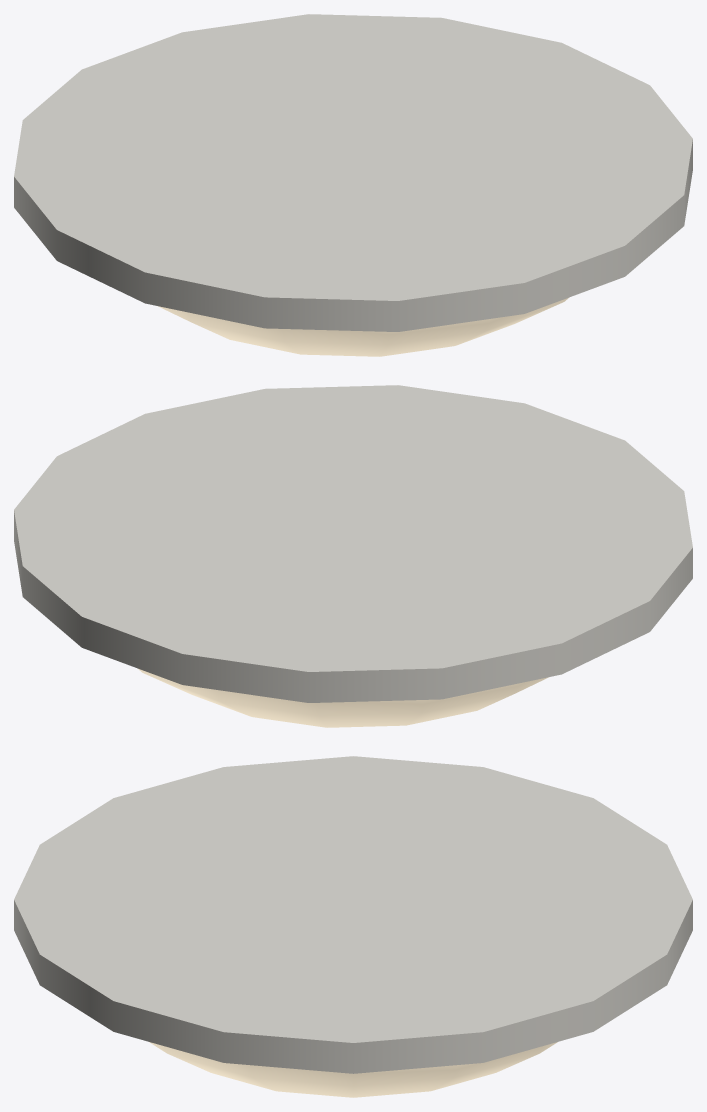
Rendered from lamp-pantry.glb.
The picture shows the model from 3 angles, top to bottom: view 1: azimuth 30°, elevation 25°; view 2: azimuth 150°, elevation 25°; view 3: azimuth 270°, elevation 25°; orthographic projection.
Parts seen in each view (by area): view 1: lamp-pantry; view 2: lamp-pantry; view 3: lamp-pantry.
Part boxes in pixels (x1=…): lamp-pantry: x1=14, y1=14, x2=692, y2=356; lamp-pantry: x1=14, y1=385, x2=692, y2=727; lamp-pantry: x1=14, y1=756, x2=692, y2=1097.
Size of the model in its own units: 1 by 0.239 by 1.
